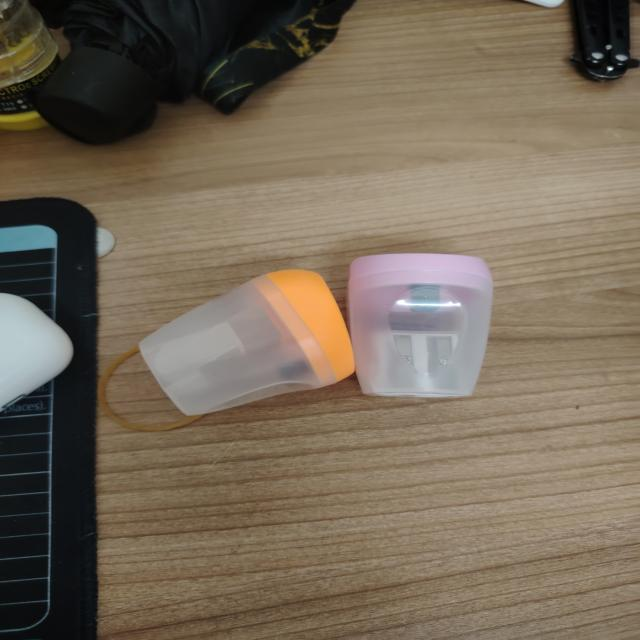sharpener: (139, 269, 354, 415), (348, 253, 493, 397)
